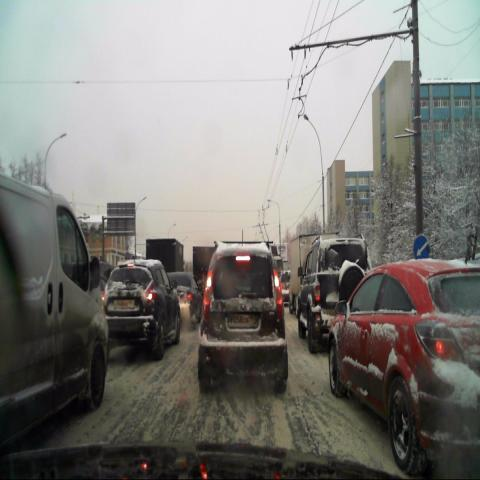4_2_2: (411, 233, 430, 265)
